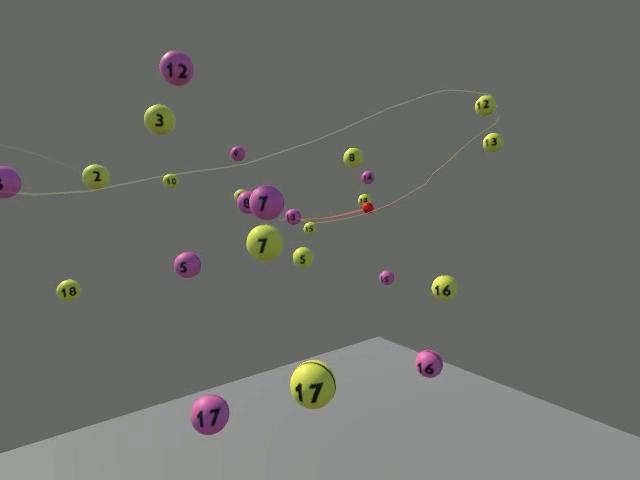ball_02_yellow: (81, 163, 109, 189)
ball_03_yellow: (143, 103, 175, 135)
ball_05_pink: (173, 251, 200, 278)
ball_05_yellow: (292, 246, 313, 267)
ball_07_pink: (249, 184, 284, 220)
ball_07_yellow: (245, 224, 282, 260)
ball_08_pink: (238, 190, 251, 213)
ball_08_yellow: (342, 147, 362, 167)
ball_09_pink: (229, 145, 245, 161)
ball_10_yellow: (162, 173, 178, 187)
ball_12_pink: (160, 51, 194, 86)
ball_12_yellow: (474, 94, 495, 115)
ball_13_pink: (285, 208, 302, 225)
ball_13_yellow: (482, 132, 502, 152)
ball_14_pink: (360, 169, 374, 184)
ball_15_pink: (378, 270, 395, 286)
ball_15_yellow: (303, 221, 316, 235)
ball_16_pink: (415, 350, 443, 378)
ball_16_yellow: (430, 274, 457, 300)
ball_17_pink: (190, 394, 229, 435)
ball_17_yellow: (289, 359, 337, 410)
ball_18_yellow: (56, 279, 81, 302)
ball_unknown: (0, 165, 21, 197), (357, 193, 371, 205), (361, 201, 374, 213), (233, 188, 244, 200)
